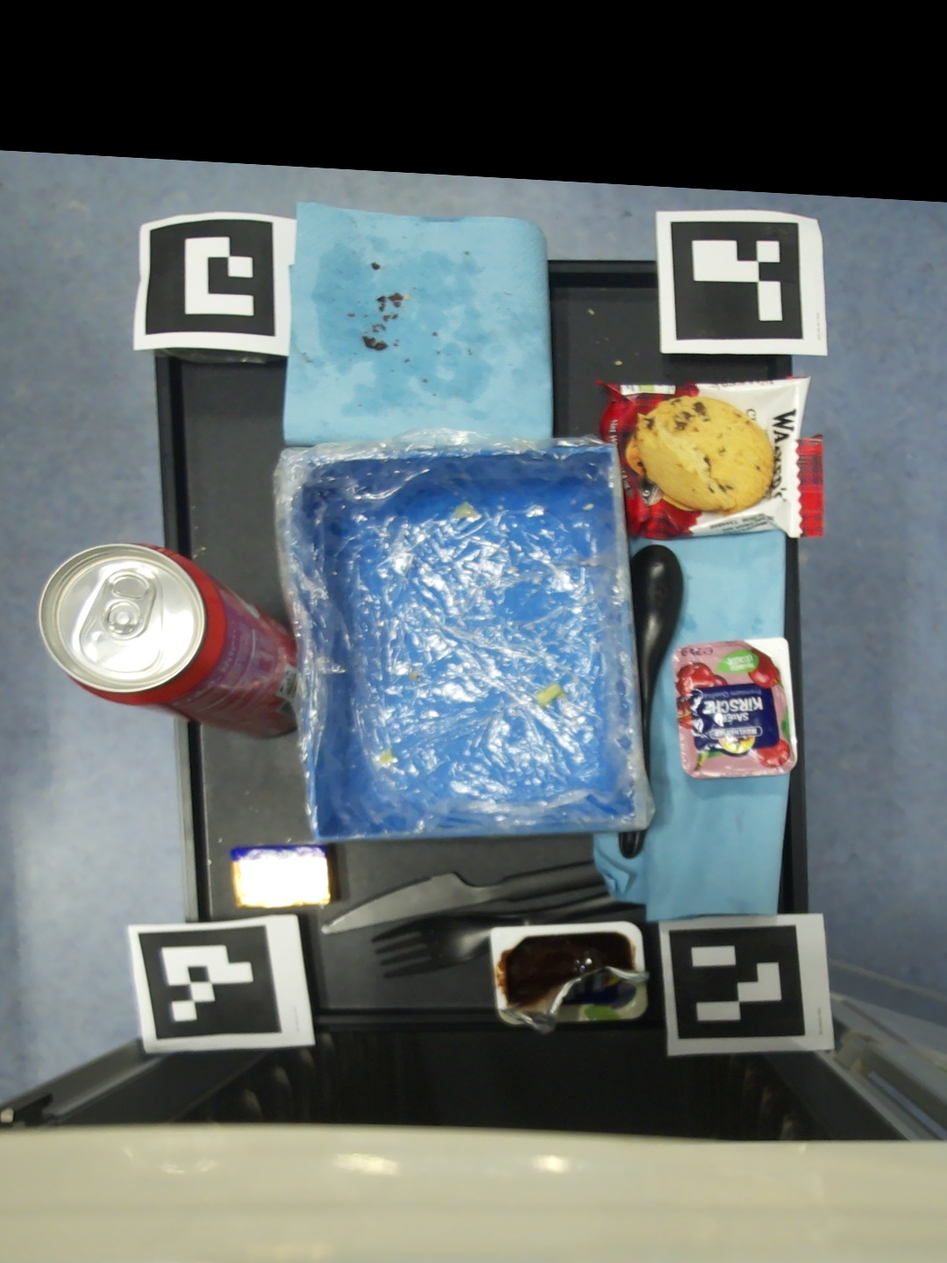butter: (230, 844, 334, 908)
cherry_jam: (673, 637, 797, 778)
cola_can: (38, 544, 297, 739)
cookie: (595, 375, 823, 541)
plum_jam: (491, 922, 648, 1036)
wrap_half_1: (536, 683, 570, 706), (454, 501, 479, 516), (378, 748, 392, 764), (410, 672, 417, 681)
